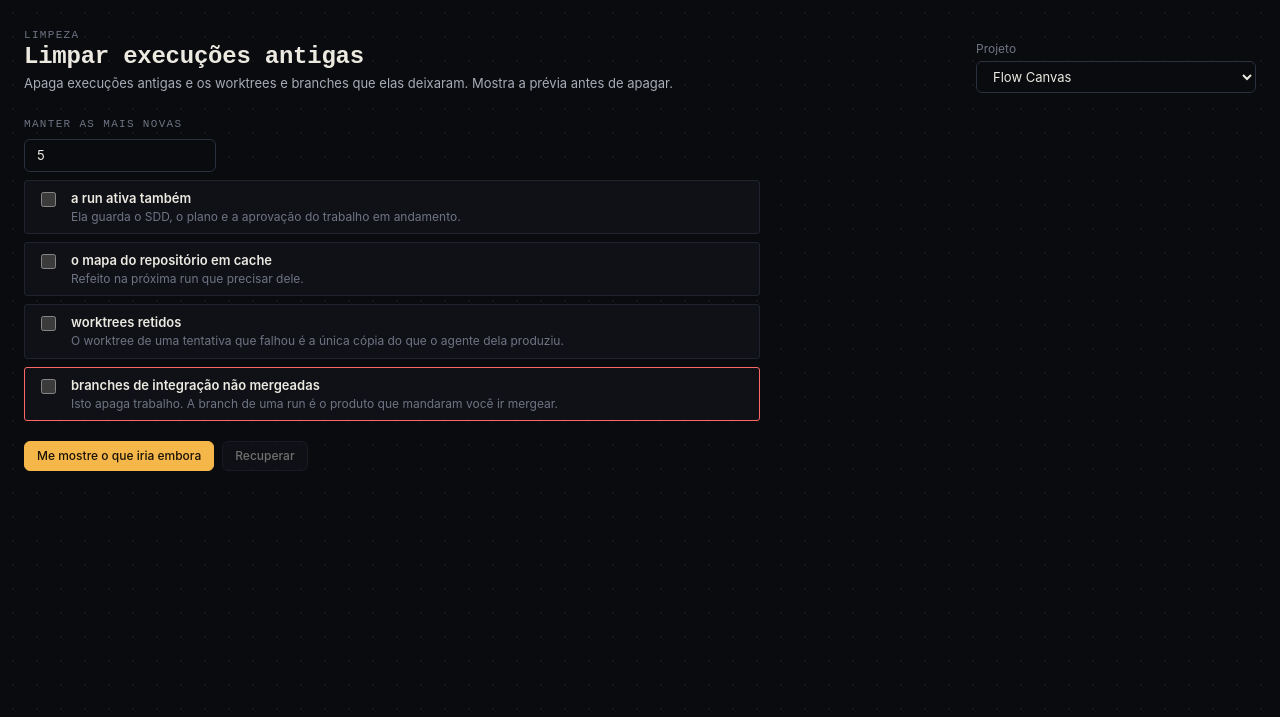
it: the clean page › reads back as a receipt once it has actually run
Click the button "Me mostre o que iria embora": (119, 456) 24,441 -> 214,471
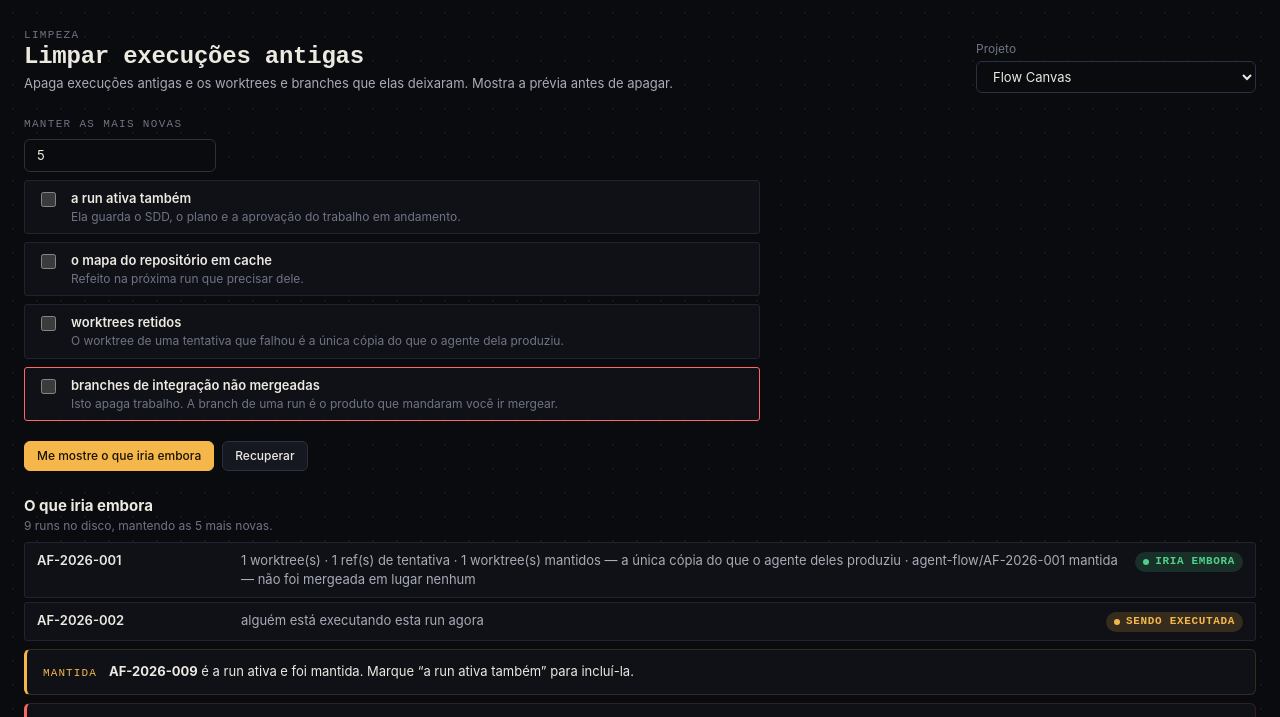
expect the button "Recuperar" is enabled: met
Click the button "Recuperar": (265, 456) 222,441 -> 308,471
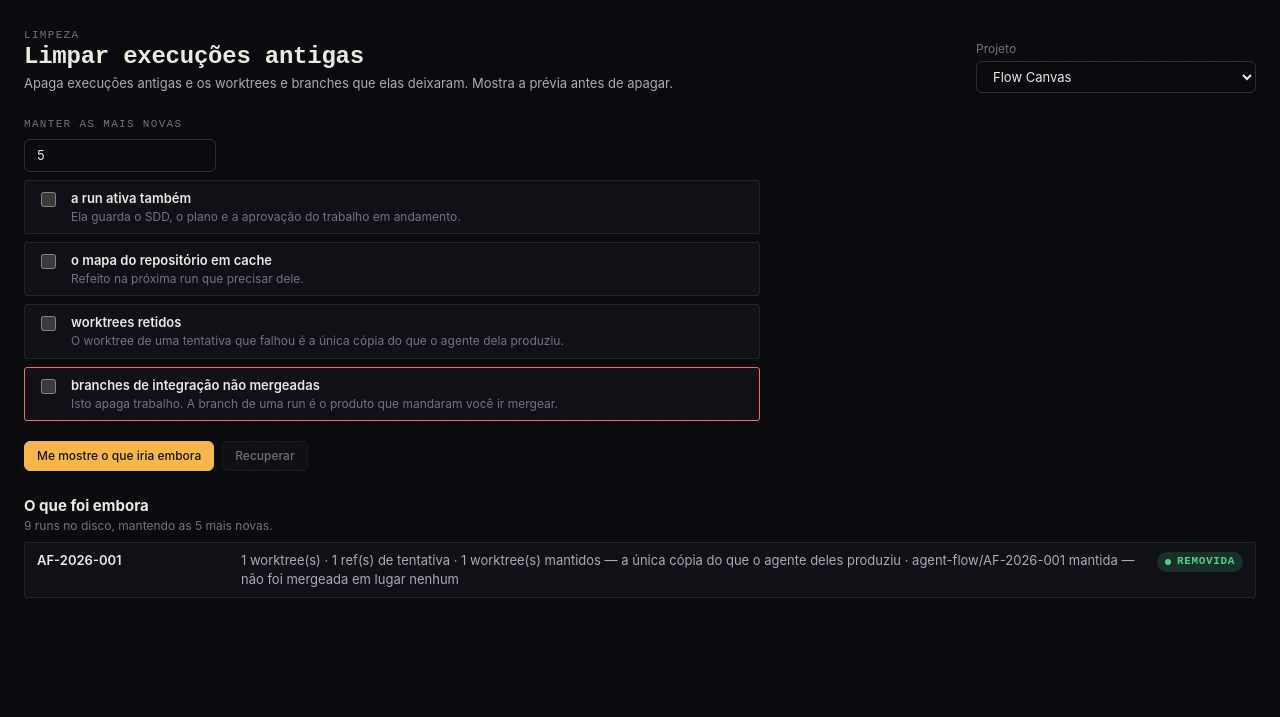
expect the element labelled "O que foi embora" is shown: met, box 24,495 -> 1256,598
expect the text "removida" is shown: met, box 1157,552 -> 1243,572
